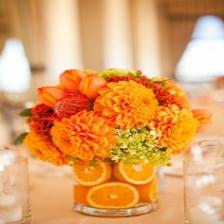orange: (50, 111, 117, 161), (94, 80, 159, 129), (86, 182, 140, 209), (114, 162, 157, 185), (73, 161, 111, 186), (134, 177, 159, 203), (75, 185, 91, 205)
